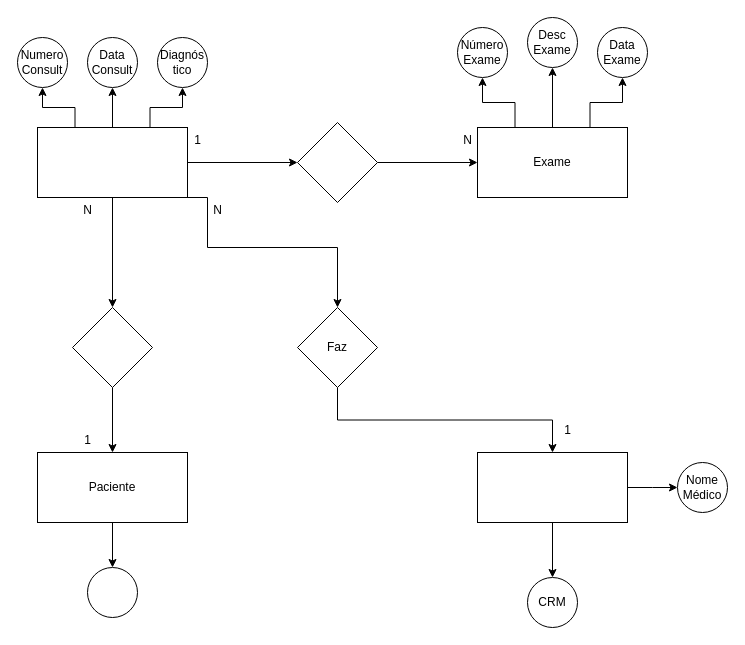
Image size: 745x645. Some labels were removed from this diagram. The shapes that lost their labels are listed below. From the top down, each one's box as (x1, y1, x2, y2) in pixels, then its label:
(36, 126, 188, 198): Consulta
(296, 122, 378, 202): Feito
(72, 306, 152, 388): Requisita
(476, 452, 628, 522): Médico
(86, 566, 138, 618): Número Paciente
